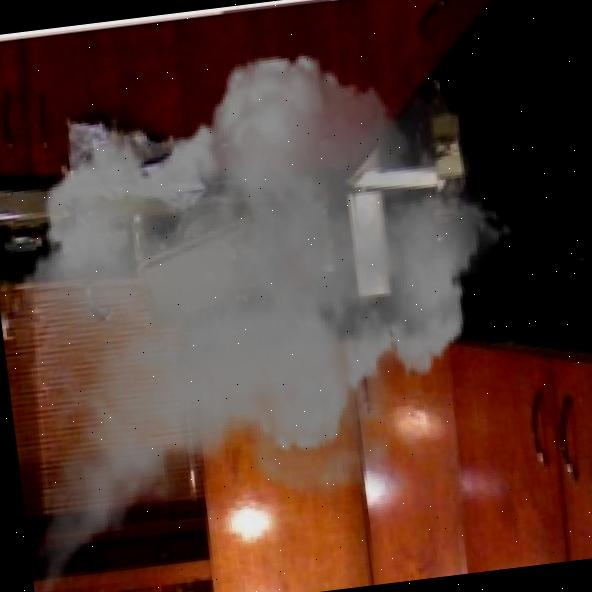smoke: (0, 13, 555, 592)
